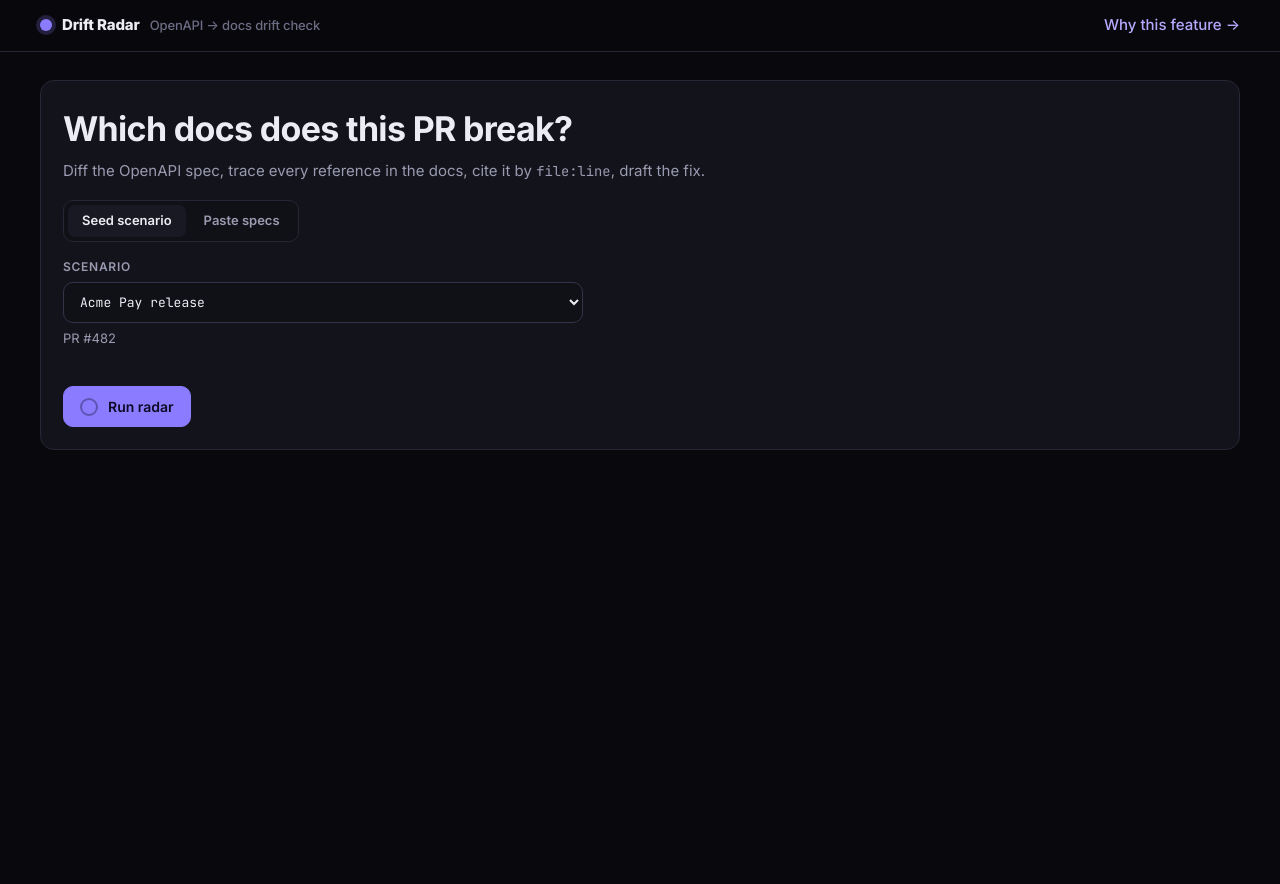
it: Radar page › exports the PR description to the clipboard
The width and height of the screenshot is (1280, 884).
Step 1. Click the button "Run radar" → [127, 406], box [63,386,191,427]
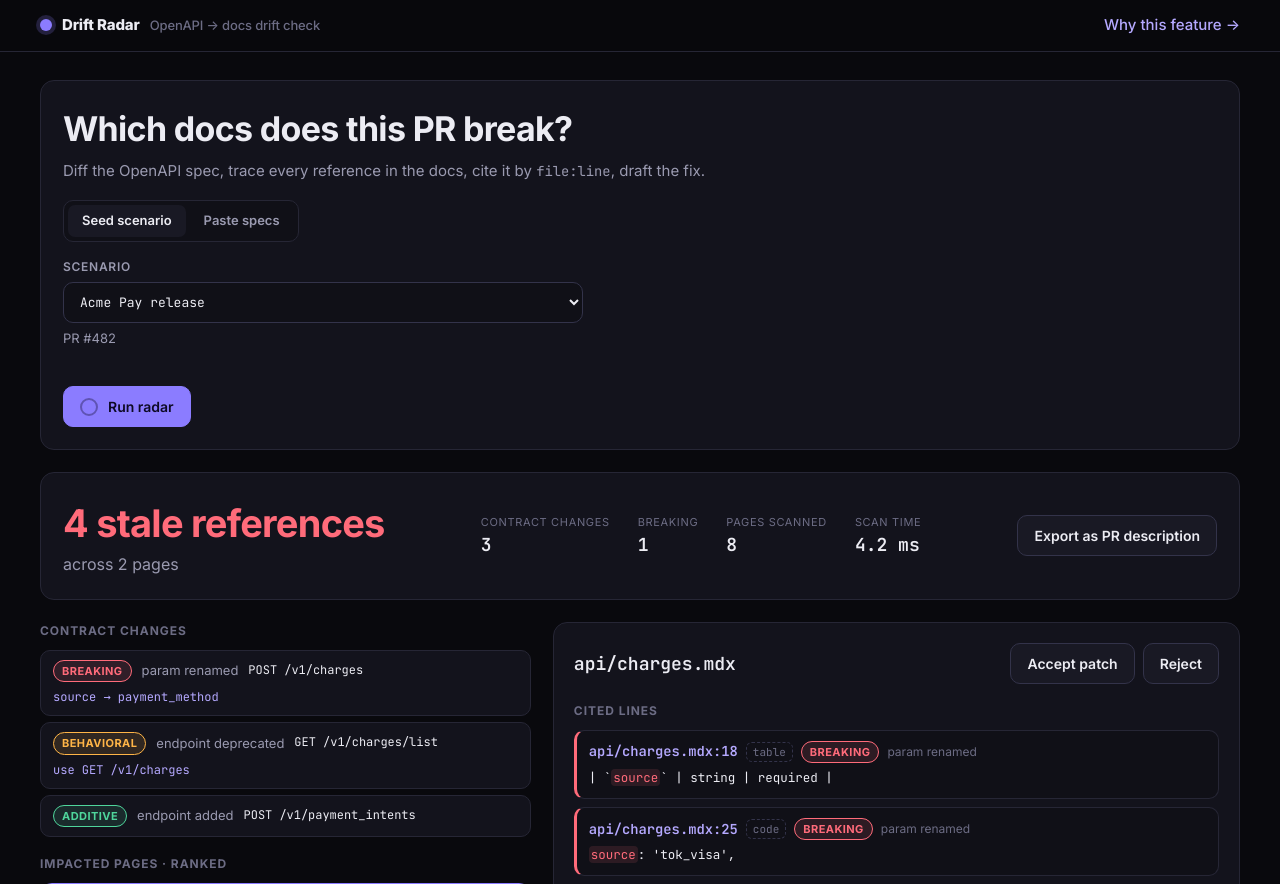
Result: the text "4 stale references" is shown at [63,495,385,552]
Step 2. Click the button "Export as PR description" → [1117, 536], box [1018,515,1217,556]
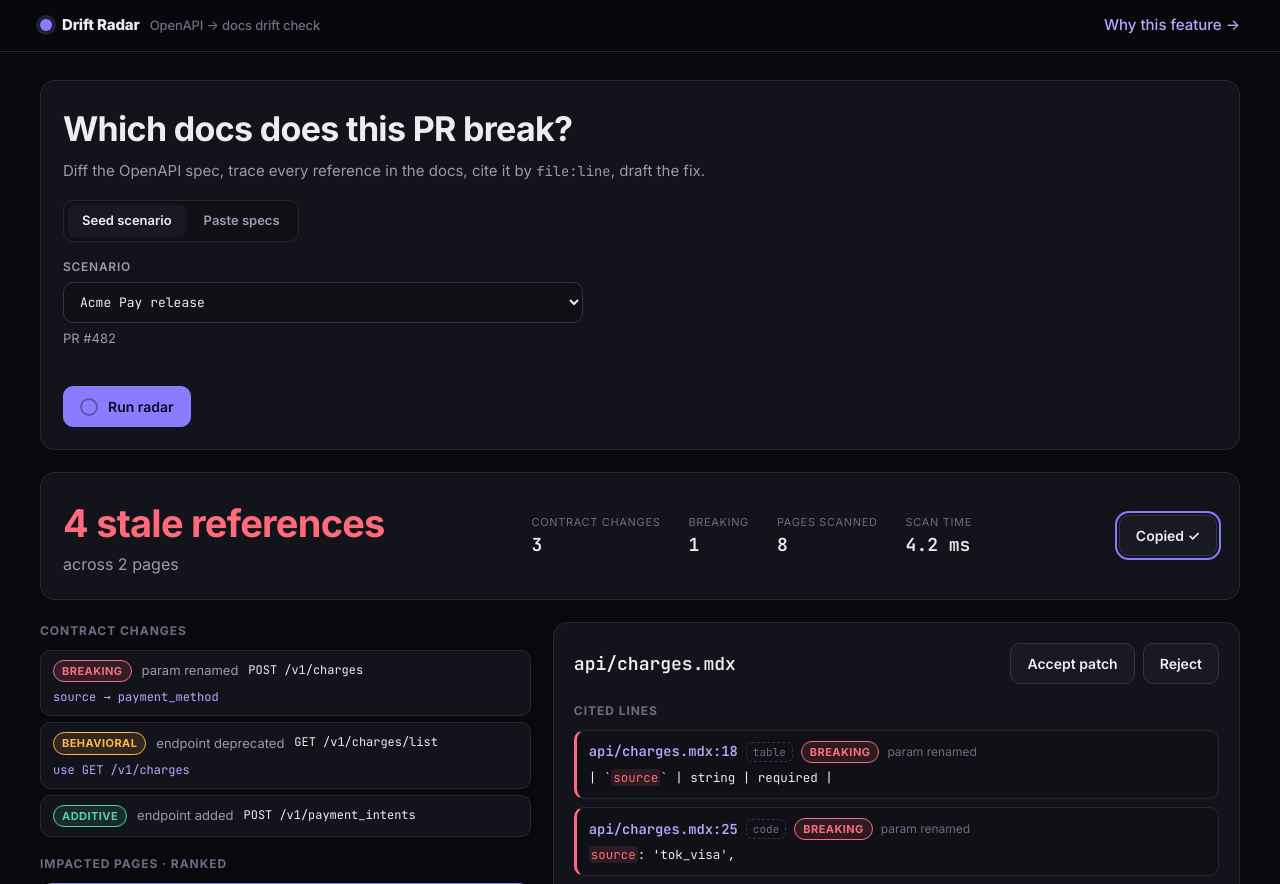
Result: the button "Copied ✓" is shown at [1119,515,1217,556]
